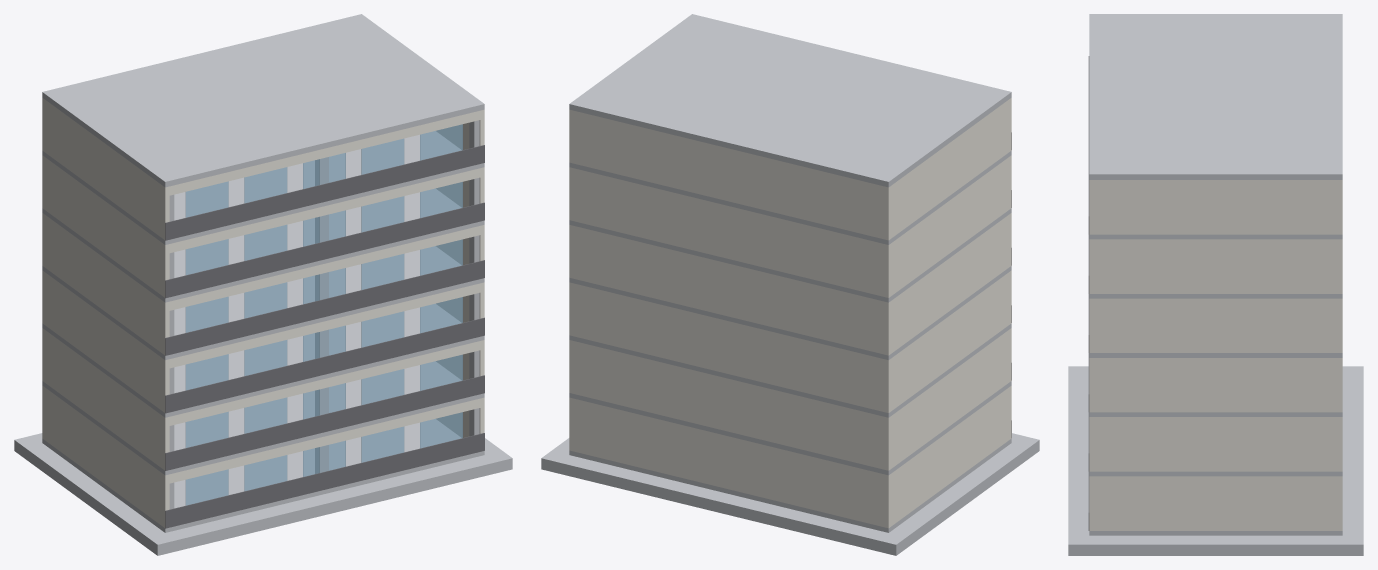
File: demo-building.glb
3 views of the same model, side by side, from view 1: azimuth 30°, elevation 25°; view 2: azimuth 150°, elevation 25°; view 3: azimuth 270°, elevation 25° (orthographic). The views are drawn at different scales.
Visible parts, largest first — view 1: layer:structure, layer:envelope, layer:details; view 2: layer:envelope, layer:structure; view 3: layer:envelope, layer:structure, layer:details.
Boxes of the visible parts, bbox=[...] form: layer:structure: bbox=[14, 14, 512, 555]; layer:envelope: bbox=[42, 98, 484, 527]; layer:details: bbox=[165, 145, 484, 528]; layer:envelope: bbox=[569, 98, 1011, 528]; layer:structure: bbox=[541, 14, 1039, 555]; layer:envelope: bbox=[1089, 180, 1342, 530]; layer:structure: bbox=[1068, 14, 1363, 555]; layer:details: bbox=[1088, 56, 1089, 530].
Bounding box in the file's own units: 20 × 19.5 × 14.
